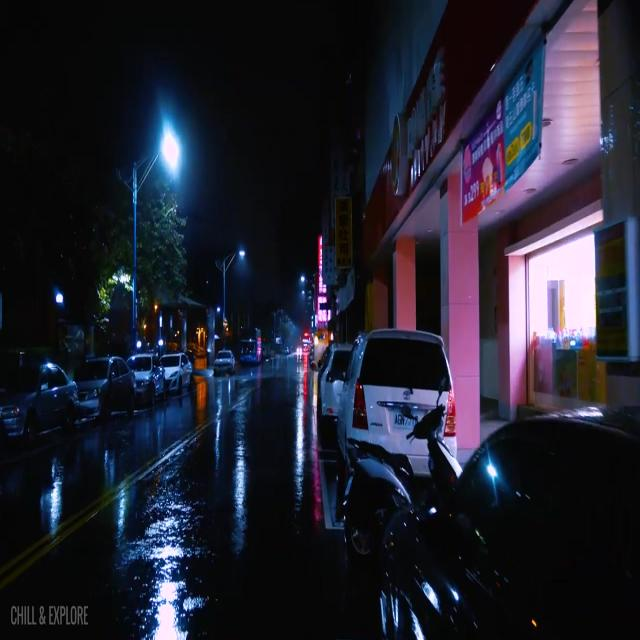Car: (0, 362, 76, 439), (82, 359, 135, 427)
